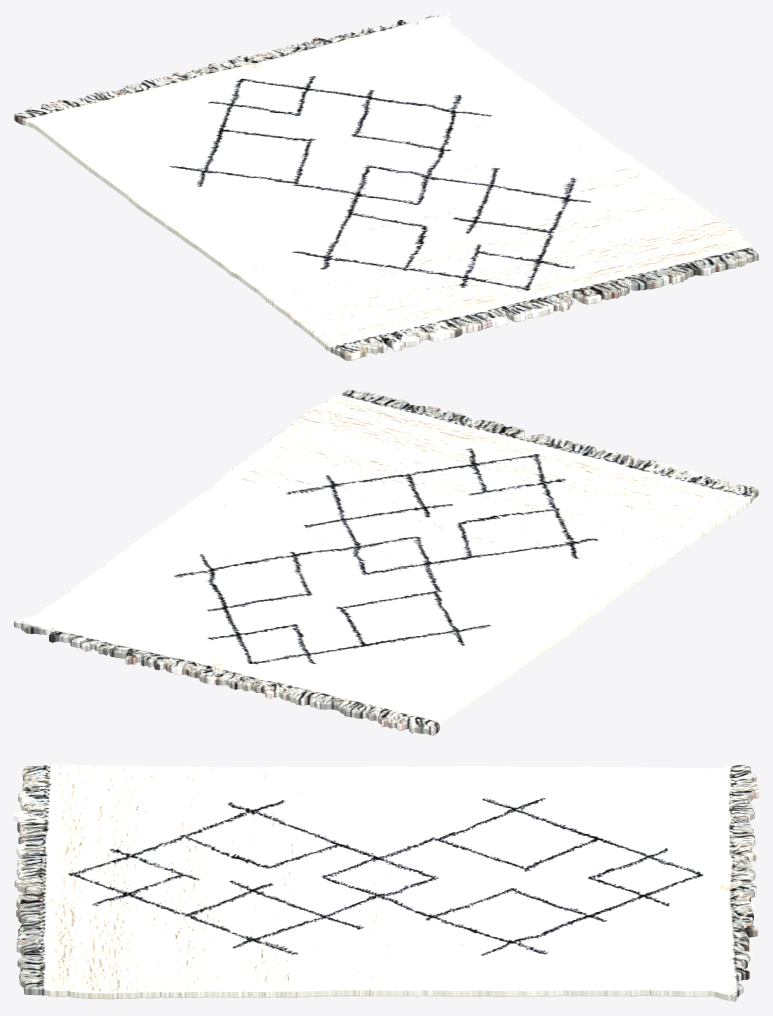
Rendered from 202210052258rug-barbaroi.glb.
The picture shows the model from 3 angles, top to bottom: view 1: azimuth 30°, elevation 25°; view 2: azimuth 150°, elevation 25°; view 3: azimuth 270°, elevation 25°; orthographic projection. The views are drawn at different scales.
Visible parts, largest first — view 1: Curve.005; view 2: Curve.005; view 3: Curve.005.
Boxes of the visible parts, bbox=[...] form: Curve.005: bbox=[14, 14, 758, 360]; Curve.005: bbox=[14, 389, 758, 735]; Curve.005: bbox=[14, 764, 758, 1001].
Size of the model in its own units: 1.86 by 0.0298 by 2.53.
1 material, 1 textured.
